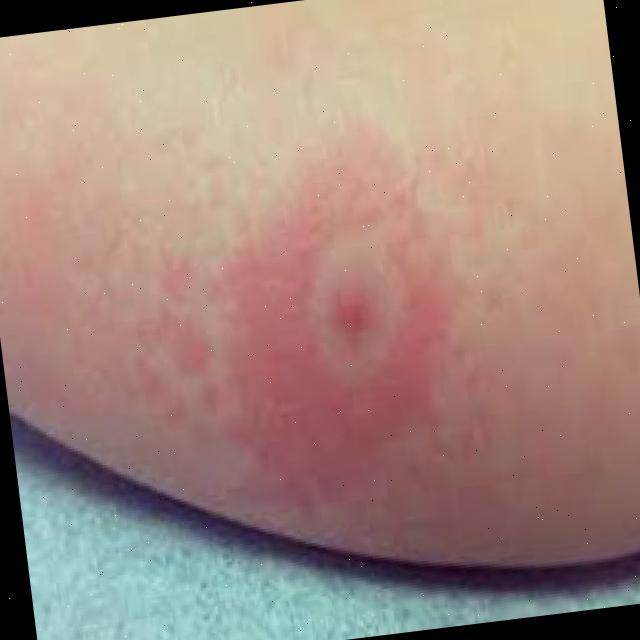kene: (137, 79, 554, 555)
